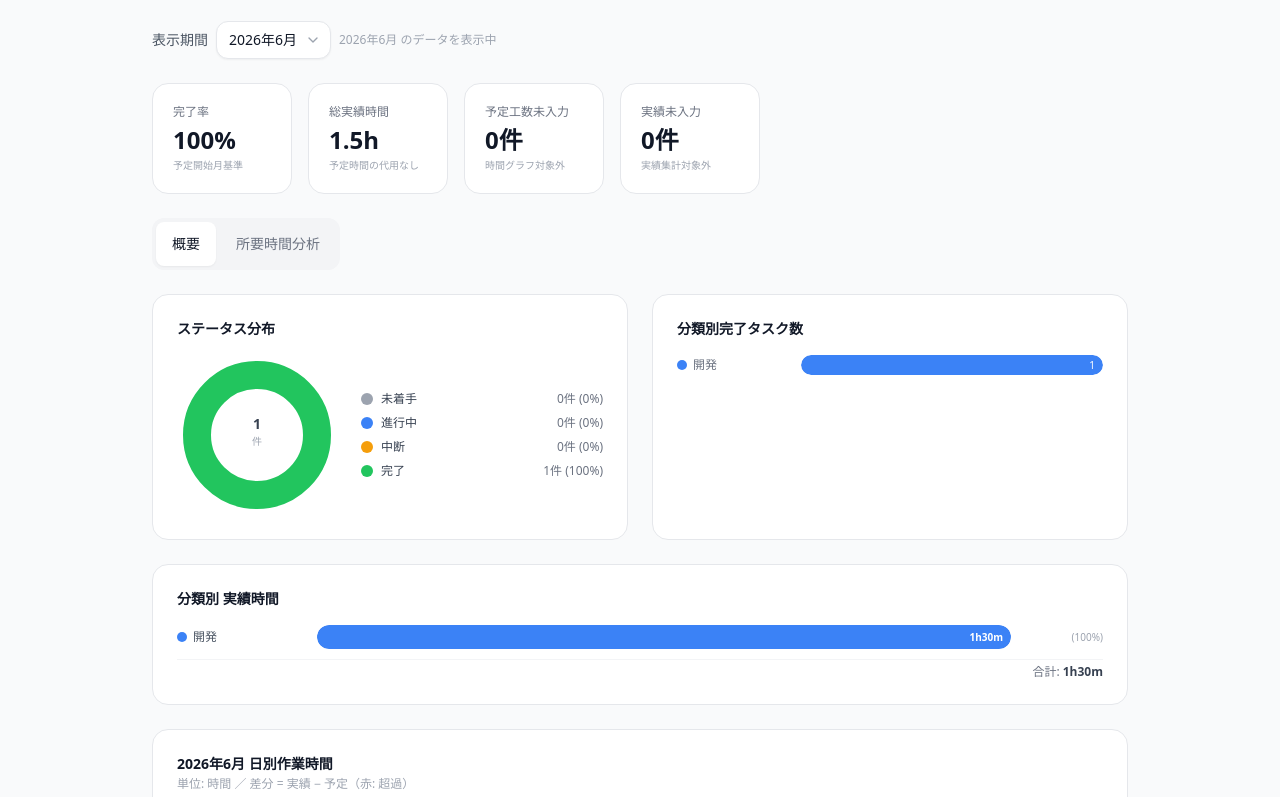
Scenario: AnalyticsPage React DOM › TC-CB-093〜TC-CB-096 TD036 TV036 TA006 R006 全期間・月別・日別表示を切り替えて同一データの合計を保つ
This screenshot has width=1280, height=797.
Later steps or results of the test are not shown.
Select "全期間" in the dropdown. click: (274, 40)
box: left=216, top=21, right=331, bottom=59
(page scrolled)
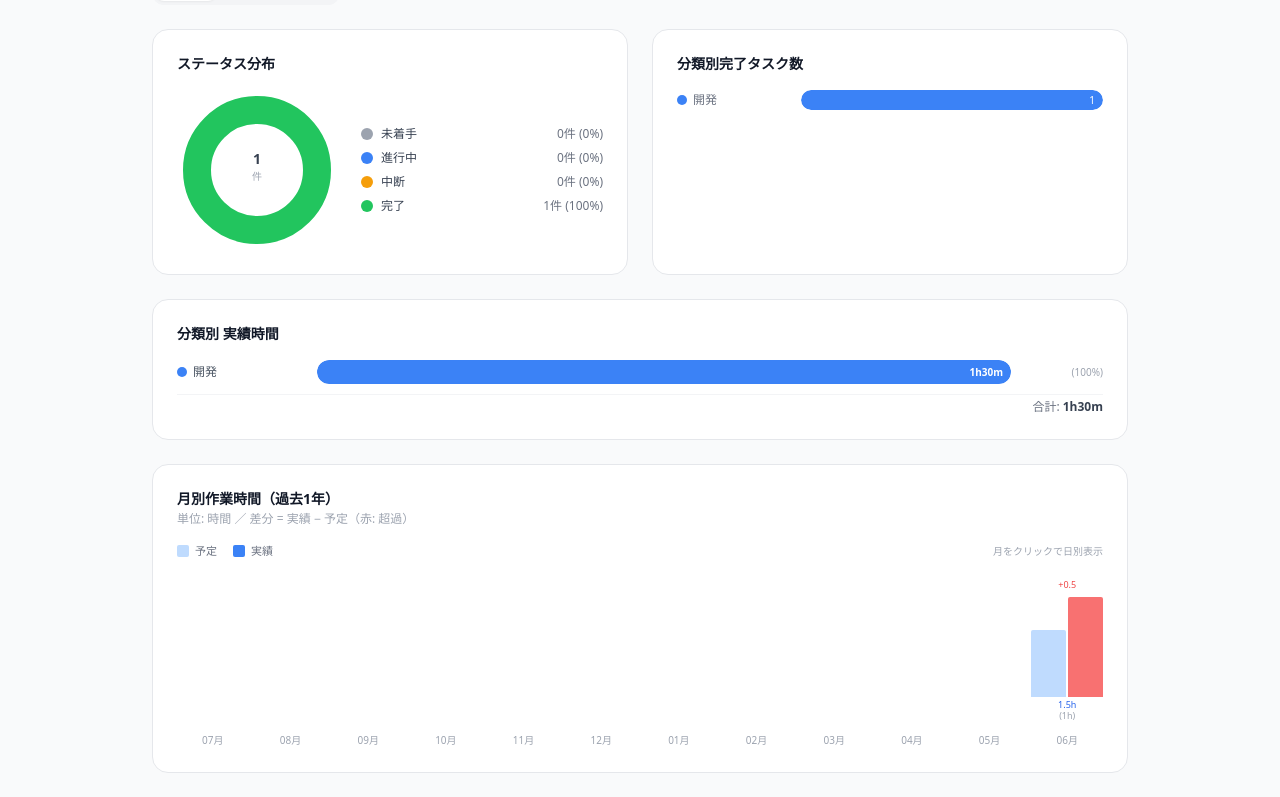
Check: the text "1.5h" is shown, box left=1058, top=698, right=1076, bottom=710
Check: the element with class "cursor-pointer" showing "+0.5 1.5h (1h) 06月" is shown, box left=1031, top=574, right=1103, bottom=748
